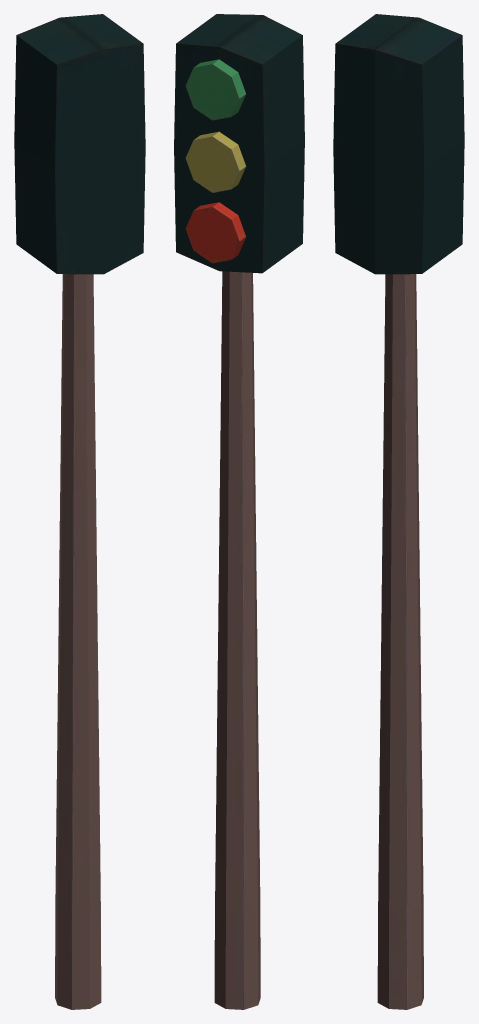
The model's file is signal-stoplight.glb.
The picture shows the model from 3 angles, left to right: view 1: azimuth 30°, elevation 25°; view 2: azimuth 150°, elevation 25°; view 3: azimuth 330°, elevation 25°; orthographic projection.
Visible parts, largest first — view 1: Node; view 2: Node; view 3: Node.
Boxes of the visible parts, bbox=[...] form: Node: bbox=[14, 14, 145, 1009]; Node: bbox=[174, 14, 304, 1009]; Node: bbox=[333, 14, 464, 1009].
Size of the model in its own units: 44.09 by 450 by 42.78.
Materials: 1 (1 with a texture image).
